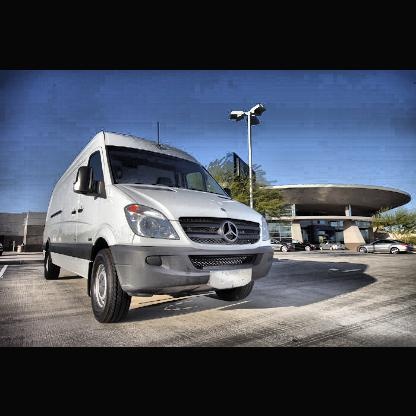Mercedes-Benz Sprinter Van 2012: (41, 131, 275, 325)
